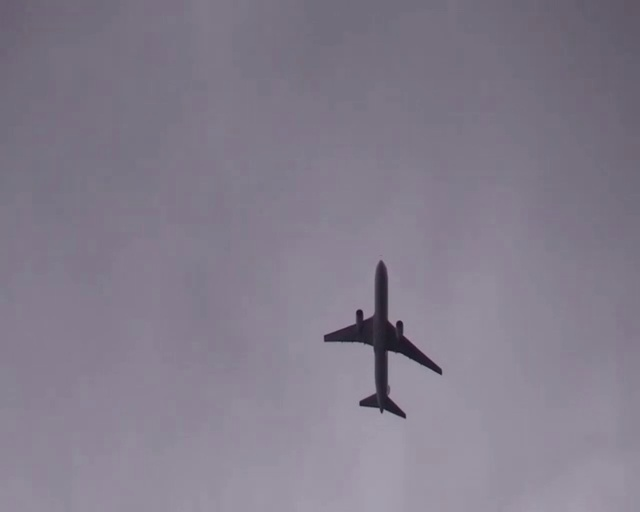AIRPLANE: (323, 259, 442, 420)
